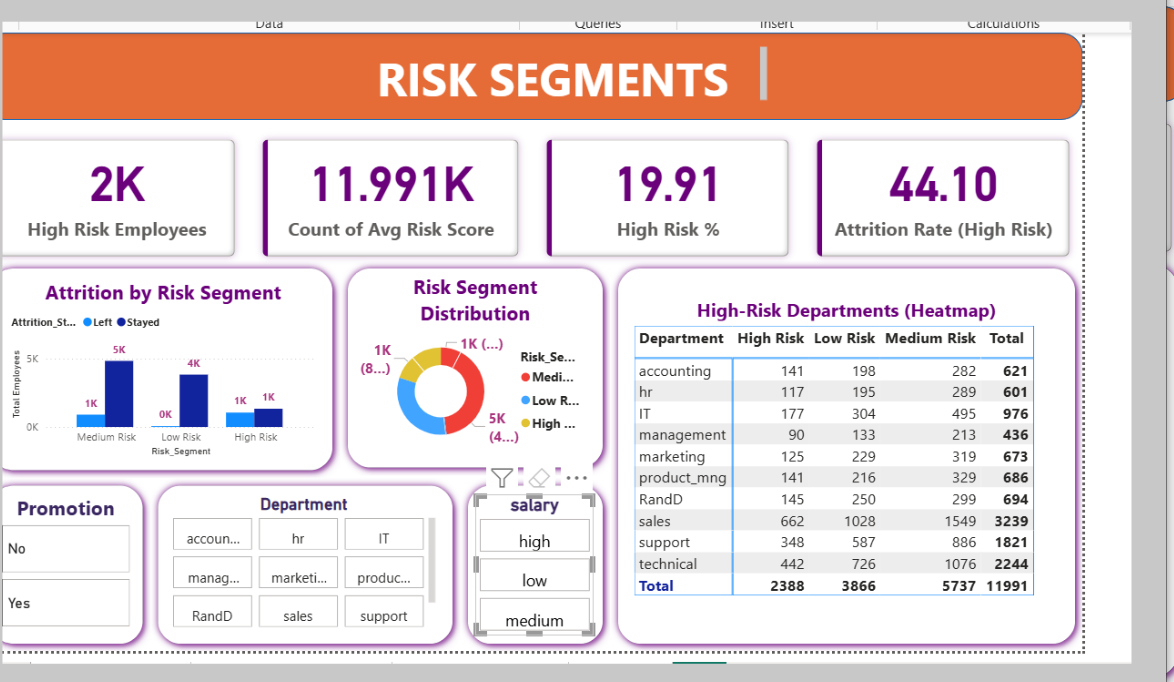

This screenshot's page, from the dashboard's own definition file:
{"tool":"powerbi","page":{"name":"RISK SEGMENTS","canvas":[1280,720],"ordinal":2},"visuals":[{"type":"shape","box":[0,0,1280.4,101.8],"z":0},{"type":"textbox","box":[415.1,11.1,502.6,76.3],"z":1000},{"type":"cardVisual","fields":{"Data":["HR_cleaned.High Risk %"]},"box":[639.4,108.2,314.9,168.6],"z":2000},{"type":"cardVisual","fields":{"Data":["HR_cleaned.High Risk Employees"]},"box":[0,108.2,308.6,168.6],"z":3000},{"type":"cardVisual","fields":{"Data":["CountNonNull(HR_cleaned.Avg Risk Score)"]},"box":[308.6,108.2,330.8,168.6],"z":4000},{"type":"cardVisual","fields":{"Data":["HR_cleaned.Attrition Rate (High Risk)"]},"box":[954.4,108.2,326.1,168.6],"z":5000},{"type":"shape","box":[415.1,265.6,314.9,249.7],"z":6000},{"type":"shape","box":[0,265.6,415.1,252.9],"z":7000},{"type":"clusteredColumnChart","title":"Attrition by Risk Segment","fields":{"Category":["HR_cleaned.Risk_Segment"],"Y":["HR_cleaned.Total Employees"],"Series":["HR_cleaned.Attrition_Status"]},"box":[27,286.3,364.2,211.6],"z":8000},{"type":"shape","box":[730.1,265.6,550.4,454.9],"z":9000},{"type":"pivotTable","title":"High-Risk Departments (Heatmap)","fields":{"Rows":["HR_cleaned.Department"],"Columns":["HR_cleaned.Risk_Segment"],"Values":["HR_cleaned.Total Employees"]},"box":[752.4,307,505.8,389.7],"z":10000},{"type":"donutChart","title":"Risk Segment Distribution","fields":{"Category":["HR_cleaned.Risk_Segment"],"Y":["HR_cleaned.Total Employees"],"Series":["HR_cleaned.Attrition_Status"]},"box":[434.2,279.9,276.8,213.1],"z":11000},{"type":"shape","box":[194.1,518.5,361.1,202],"z":12000},{"type":"advancedSlicerVisual","fields":{"Values":["HR_cleaned.Department"]},"box":[214.7,537.6,316.5,159.1],"z":13000},{"type":"shape","box":[555.1,518.5,175,202],"z":14000},{"type":"advancedSlicerVisual","fields":{"Values":["HR_cleaned.salary"]},"box":[572.6,537.6,138.4,163.8],"z":15000},{"type":"shape","box":[0,518.5,194.1,202],"z":16000},{"type":"advancedSlicerVisual","fields":{"Values":["HR_cleaned.Promotion_Status"]},"box":[15.9,537.6,159.1,159.1],"z":17000}]}

Visuals, with their boxes on the page's 1280x720 design canvas (x1, y1, x2, y2). These are canvas units, not pixel positions in the 1174x682 screenshot, which may show the page scaled, cropped or inside an application window:
shape: 0:0:1280:102
textbox: 415:11:918:87
cardVisual - HR_cleaned.High Risk %: 639:108:954:277
cardVisual - HR_cleaned.High Risk Employees: 0:108:309:277
cardVisual - CountNonNull(HR_cleaned.Avg Risk Score): 309:108:639:277
cardVisual - HR_cleaned.Attrition Rate (High Risk): 954:108:1280:277
shape: 415:266:730:515
shape: 0:266:415:518
"Attrition by Risk Segment" clusteredColumnChart: 27:286:391:498
shape: 730:266:1280:720
"High-Risk Departments (Heatmap)" pivotTable: 752:307:1258:697
"Risk Segment Distribution" donutChart: 434:280:711:493
shape: 194:518:555:720
advancedSlicerVisual - HR_cleaned.Department: 215:538:531:697
shape: 555:518:730:720
advancedSlicerVisual - HR_cleaned.salary: 573:538:711:701
shape: 0:518:194:720
advancedSlicerVisual - HR_cleaned.Promotion_Status: 16:538:175:697
